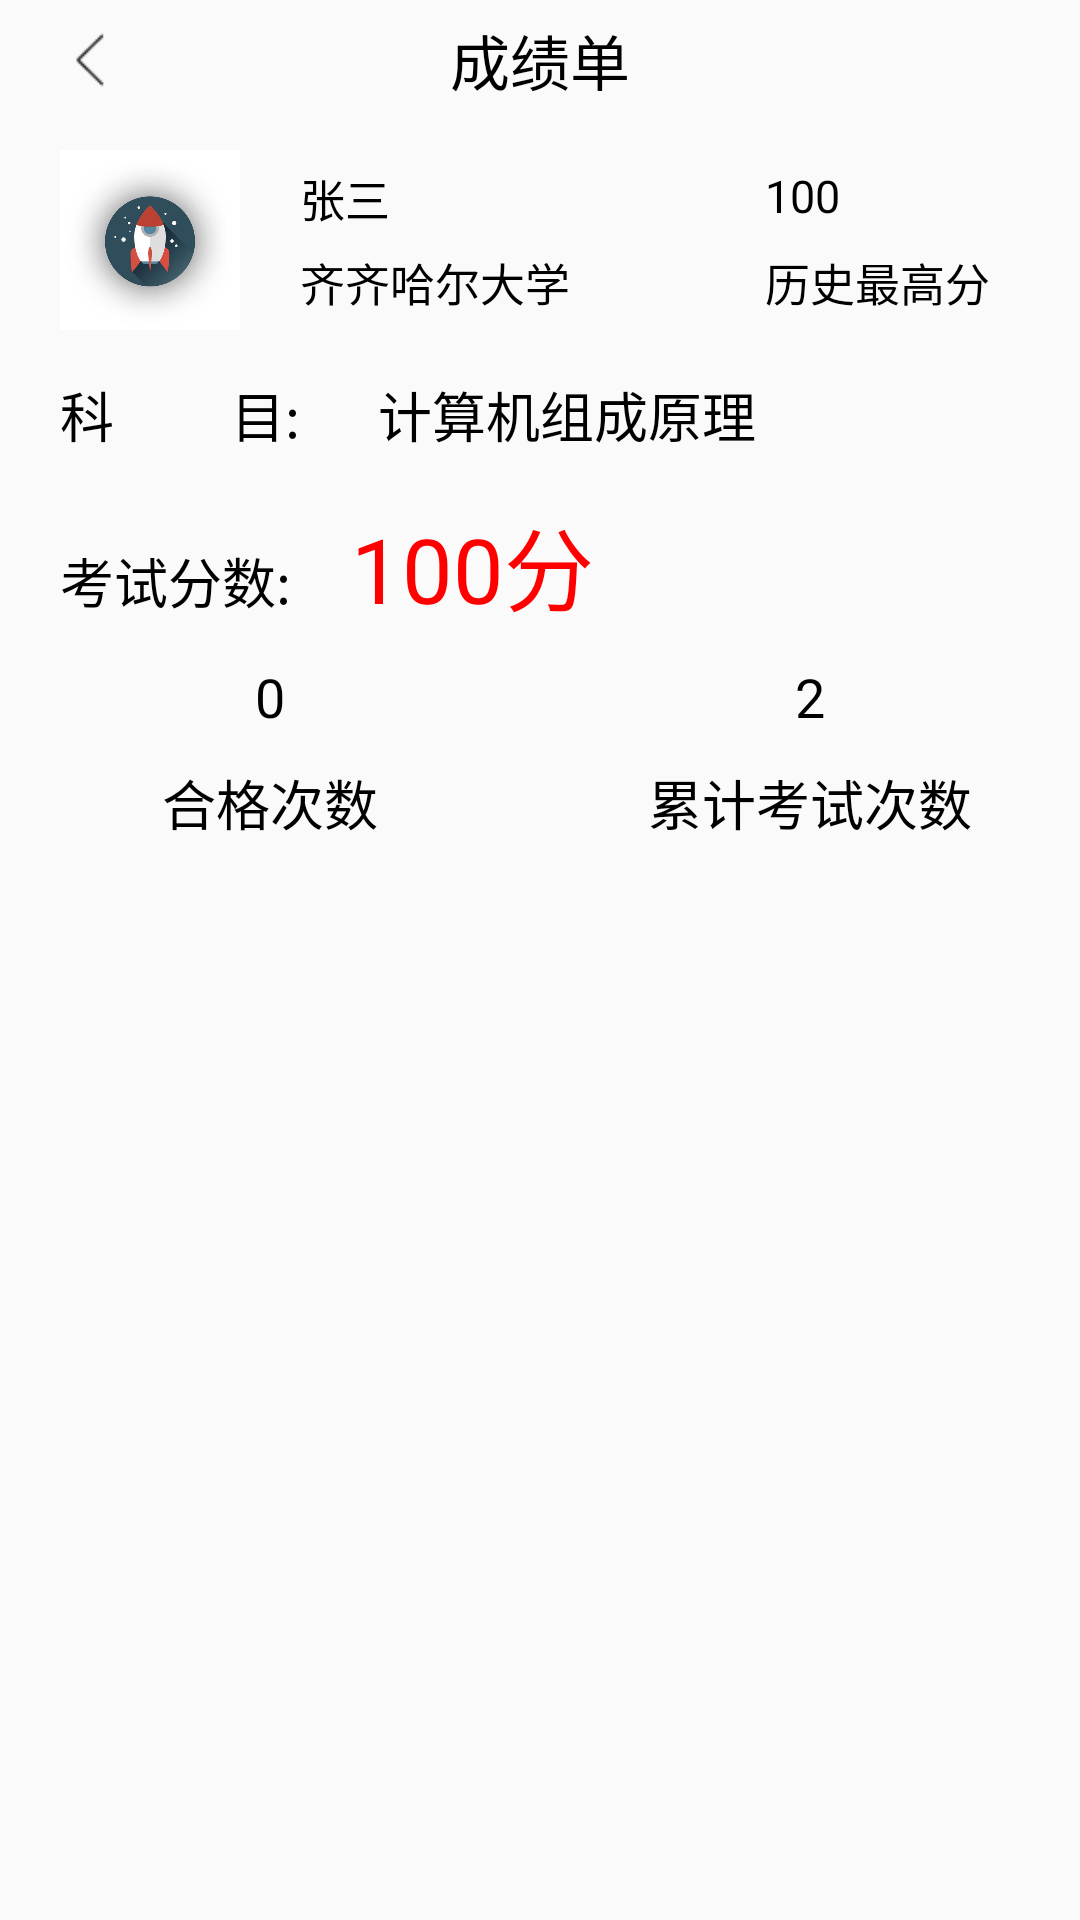

Where icons sit on this 1080×1920 app screen, as bbox=(x1, y1, x2, y2):
if fanhui: bbox=(76, 33, 104, 86)
touxiang: bbox=(89, 182, 211, 303)
